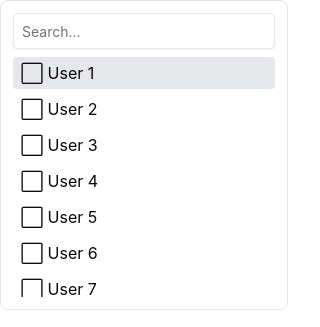
Test case: MultiSelect › handles async loadOptions
Expected: the text "⬜ User 1" is shown, [21, 61, 94, 85]
Type "User 3" into the dropdown named "Search options" at (144, 31), box [13, 13, 275, 49]
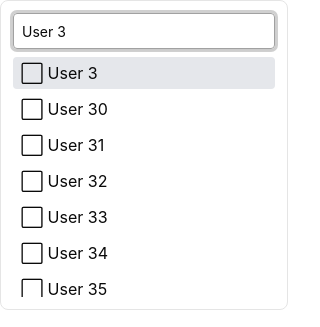
Expected: the text "⬜ User 3" is shown, [21, 61, 98, 85]
Expected: the option "⬜ User 1" is gone
